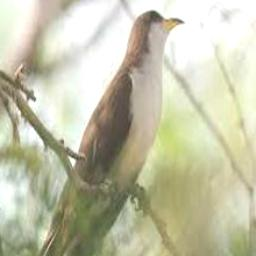Cuckoo: (14, 12, 185, 256)
